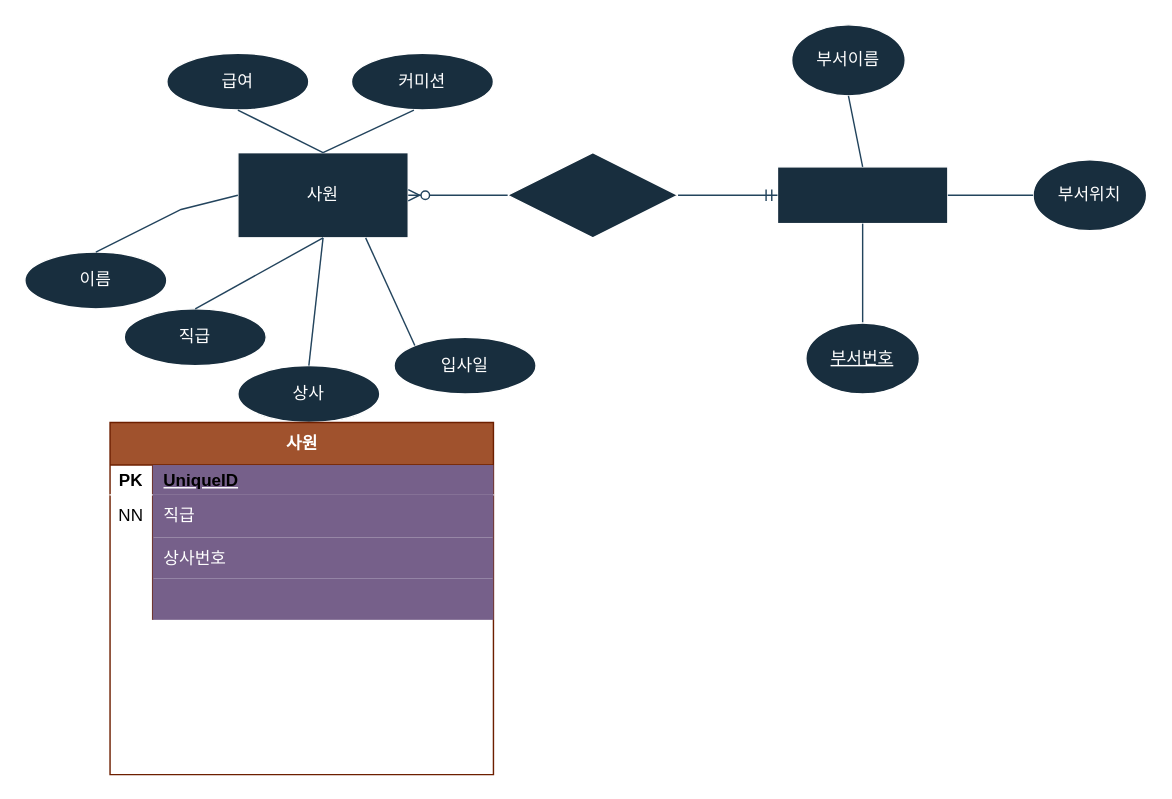
This 1172x799 diagram has some shape labels left out. Here are the shapes that lost their labels. From the top down, the centre of each, then its label:
the point at 592,194: 소속
the point at 862,194: 부서
